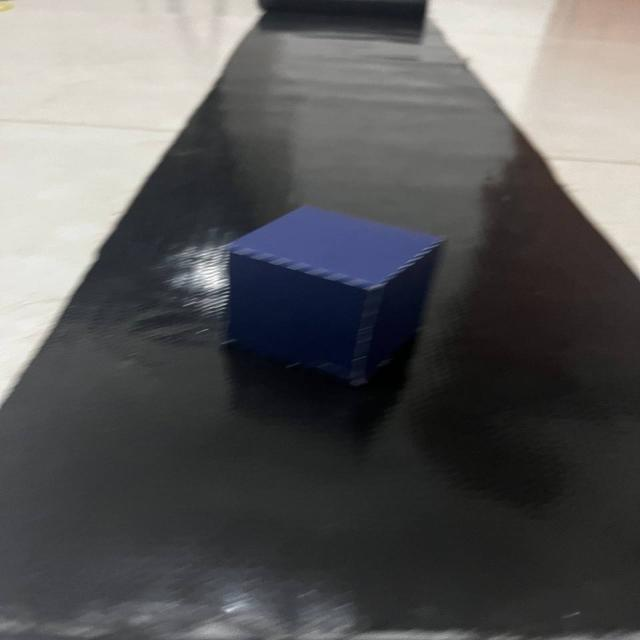Azul: (208, 196, 458, 400)
